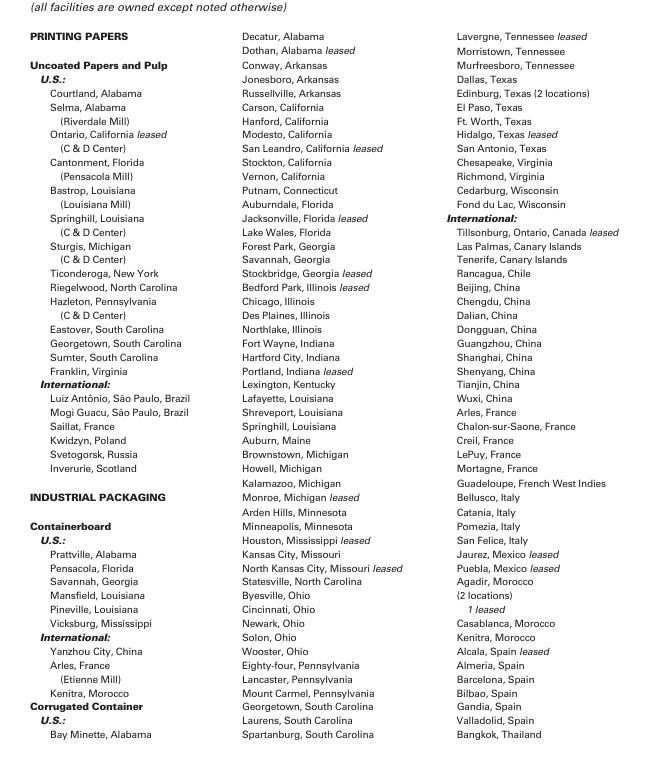table: (28, 29, 617, 739)
table column: (215, 29, 423, 739), (423, 29, 617, 739), (28, 29, 215, 739)
table column header: (28, 29, 617, 57)
table row: (28, 29, 617, 57), (28, 474, 617, 489), (28, 503, 617, 518), (28, 57, 617, 71), (28, 71, 617, 85), (28, 85, 617, 99), (28, 99, 617, 113), (28, 126, 617, 140), (28, 140, 617, 154), (28, 154, 617, 168), (28, 168, 617, 182), (28, 182, 617, 196), (28, 196, 617, 210), (28, 210, 617, 224), (28, 224, 617, 238), (28, 251, 617, 265), (28, 265, 617, 279), (28, 279, 617, 293), (28, 293, 617, 307), (28, 307, 617, 321), (28, 321, 617, 335), (28, 335, 617, 349), (28, 349, 617, 363), (28, 376, 617, 390), (28, 390, 617, 404), (28, 404, 617, 418), (28, 418, 617, 432), (28, 432, 617, 446), (28, 446, 617, 460), (28, 460, 617, 474), (28, 489, 617, 503), (28, 518, 617, 532), (28, 532, 617, 546), (28, 546, 617, 560), (28, 573, 617, 587), (28, 587, 617, 601), (28, 601, 617, 615), (28, 615, 617, 629), (28, 629, 617, 643), (28, 643, 617, 657), (28, 657, 617, 671), (28, 671, 617, 685), (28, 698, 617, 712), (28, 712, 617, 726), (28, 113, 617, 126), (28, 238, 617, 251), (28, 363, 617, 376), (28, 560, 617, 573), (28, 685, 617, 698), (28, 726, 617, 739)
table spanning cell: (28, 460, 215, 489), (28, 489, 215, 518)
